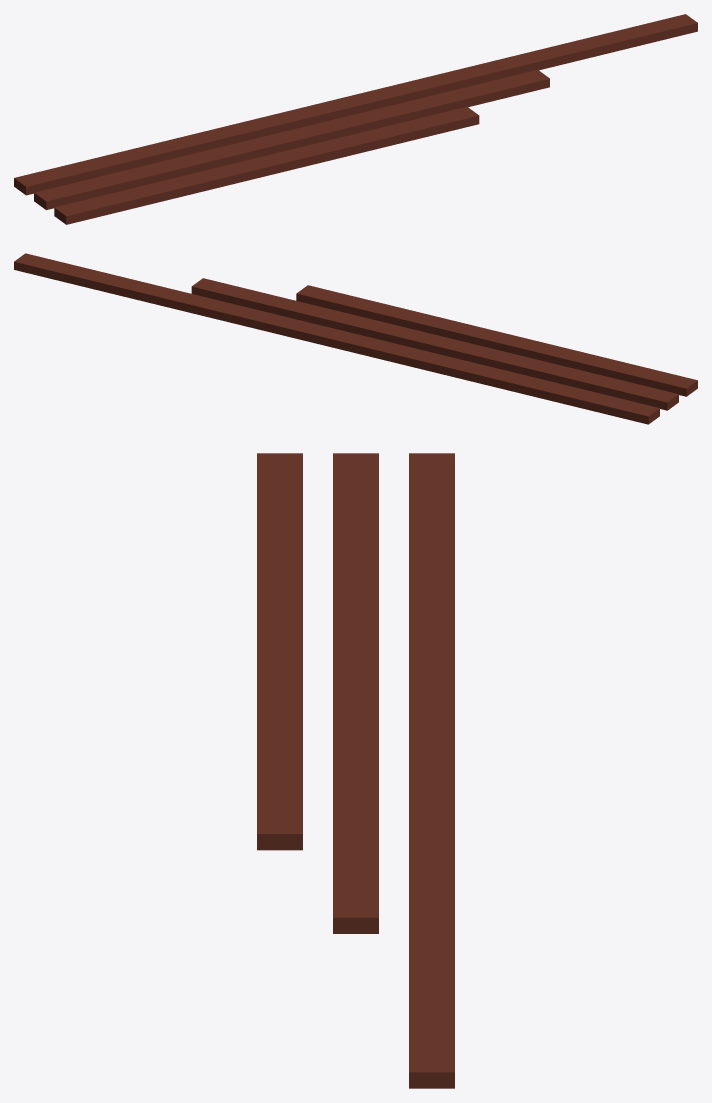
File: beam-153x60_ipe_v0.1.dae
3 views of the same model, one above another, from view 1: azimuth 30°, elevation 25°; view 2: azimuth 150°, elevation 25°; view 3: azimuth 270°, elevation 25° (orthographic). The views are drawn at different scales.
Parts seen in each view (by area): view 1: IB-26230_beam-153x60_ipe_4880mm, IB-26220_beam-153x60_ipe_3660mm, IB-26210_beam-153x60_ipe_3000mm; view 2: IB-26230_beam-153x60_ipe_4880mm, IB-26220_beam-153x60_ipe_3660mm, IB-26210_beam-153x60_ipe_3000mm; view 3: IB-26230_beam-153x60_ipe_4880mm, IB-26220_beam-153x60_ipe_3660mm, IB-26210_beam-153x60_ipe_3000mm.
Boxes of the visible parts, x1=… form: IB-26230_beam-153x60_ipe_4880mm: x1=14, y1=14, x2=697, y2=195; IB-26220_beam-153x60_ipe_3660mm: x1=34, y1=70, x2=549, y2=209; IB-26210_beam-153x60_ipe_3000mm: x1=54, y1=106, x2=479, y2=224; IB-26230_beam-153x60_ipe_4880mm: x1=14, y1=253, x2=659, y2=424; IB-26220_beam-153x60_ipe_3660mm: x1=191, y1=278, x2=678, y2=410; IB-26210_beam-153x60_ipe_3000mm: x1=296, y1=285, x2=697, y2=396; IB-26230_beam-153x60_ipe_4880mm: x1=409, y1=453, x2=454, y2=1088; IB-26220_beam-153x60_ipe_3660mm: x1=333, y1=453, x2=378, y2=933; IB-26210_beam-153x60_ipe_3000mm: x1=257, y1=453, x2=302, y2=850.
Size of the model in its own units: 4880 by 659 by 60.
